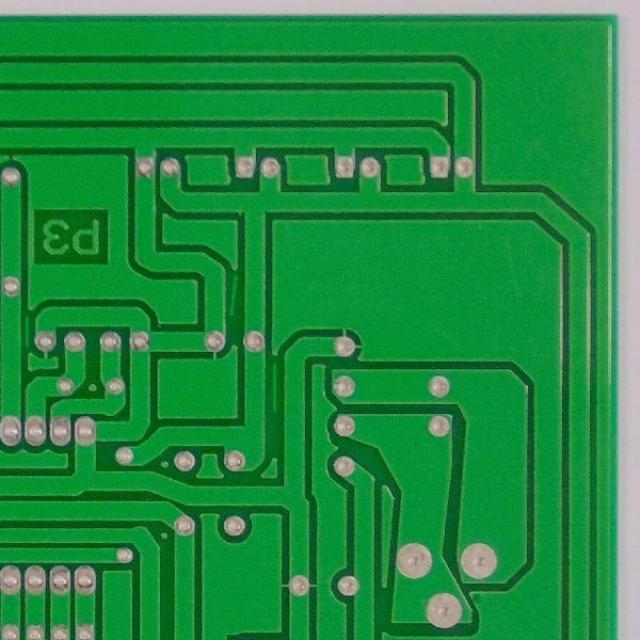Spurious_Cooper: (267, 360, 280, 418), (227, 272, 240, 321), (22, 312, 32, 349)
